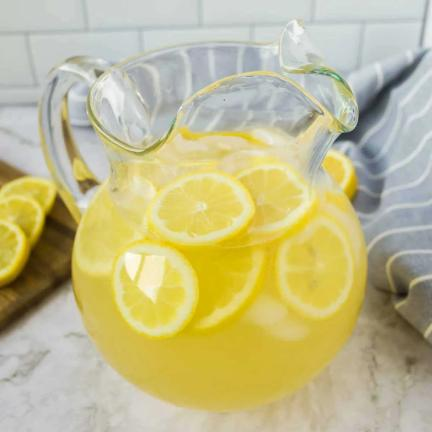container: (74, 19, 366, 409)
fluid: (73, 183, 366, 410)
fluid-surface: (110, 153, 315, 248)
